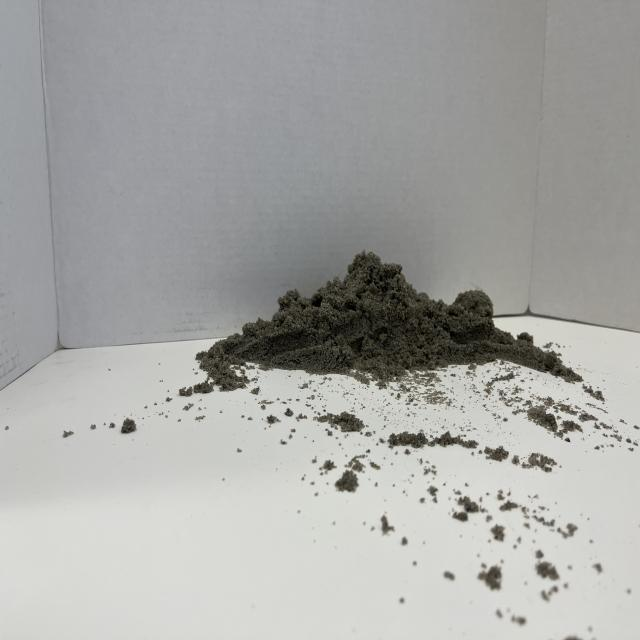sand: (229, 230, 528, 406)
